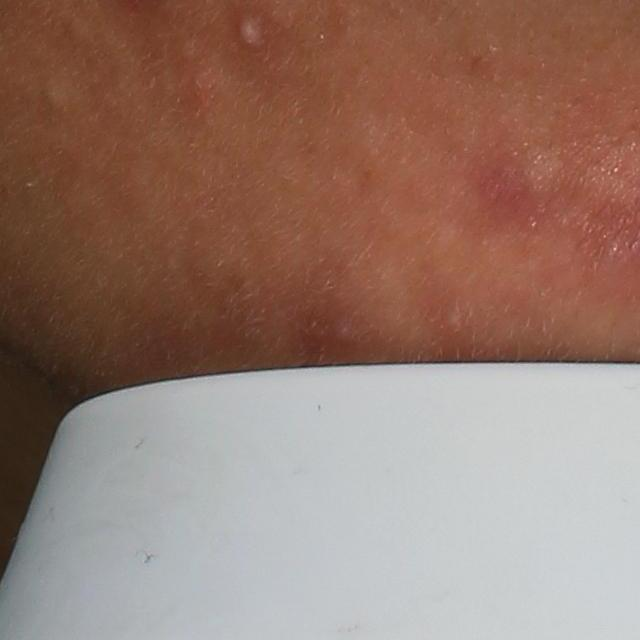comedo: (39, 82, 67, 113)
hypertrophic_scar: (518, 145, 567, 210)
papule: (178, 65, 220, 112)
